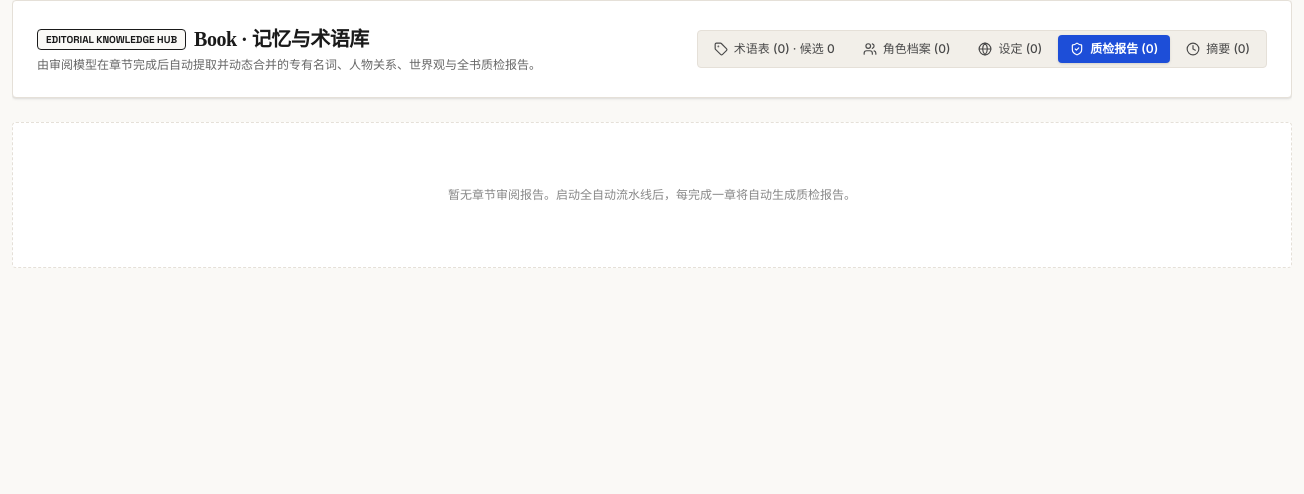
it: Knowledge loading states › shows a network failure separately from an empty knowledge base
Click the button "术语表 (0) · 候选 0": {"x": 774, "y": 49} [702, 35, 847, 63]
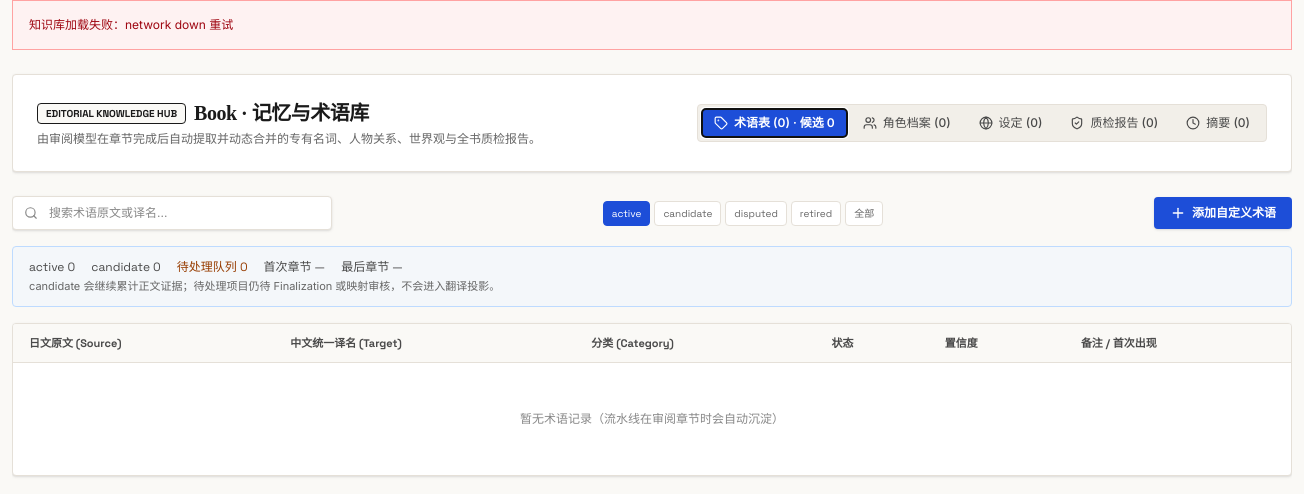
Expected: the message shows "network down", [125, 17, 206, 32]
